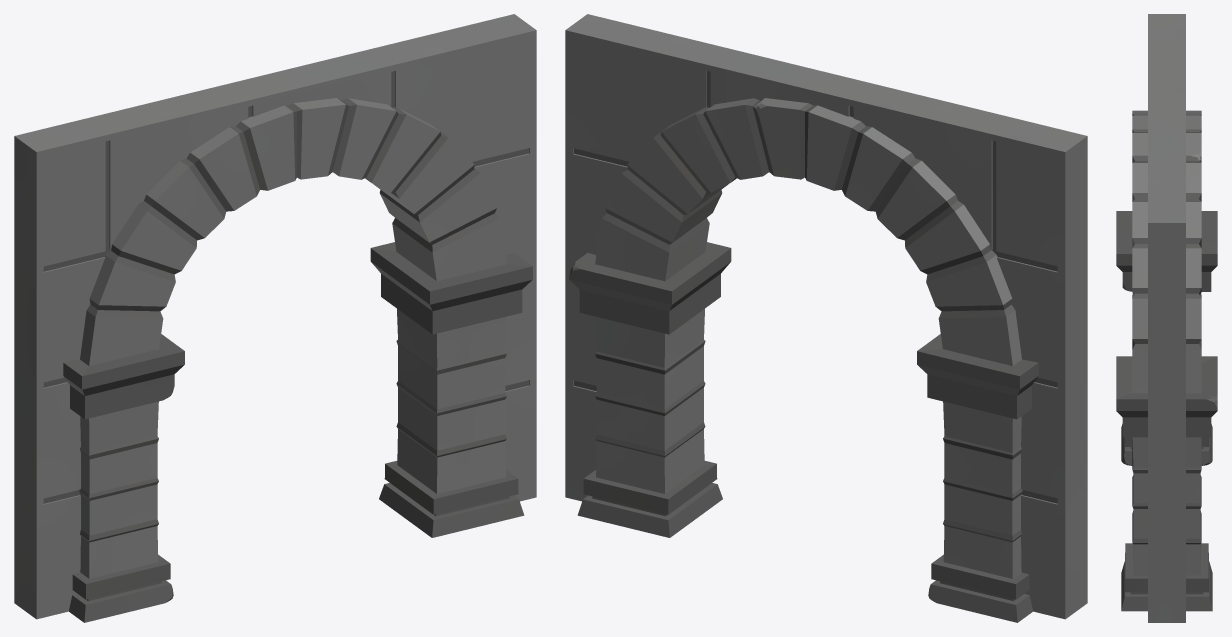
The model's file is Arch_2_Wall.fbx.
The picture shows the model from 3 angles, left to right: view 1: azimuth 30°, elevation 25°; view 2: azimuth 150°, elevation 25°; view 3: azimuth 270°, elevation 25°; orthographic projection. The views are drawn at different scales.
Parts seen in each view (by area): view 1: Arch 2 Wall; view 2: Arch 2 Wall; view 3: Arch 2 Wall.
Part boxes in pixels (bbox=[...]): Arch 2 Wall: bbox=[14, 14, 536, 622]; Arch 2 Wall: bbox=[565, 14, 1087, 622]; Arch 2 Wall: bbox=[1116, 14, 1217, 622].
Size of the model in its own units: 280 by 250 by 57.57.
